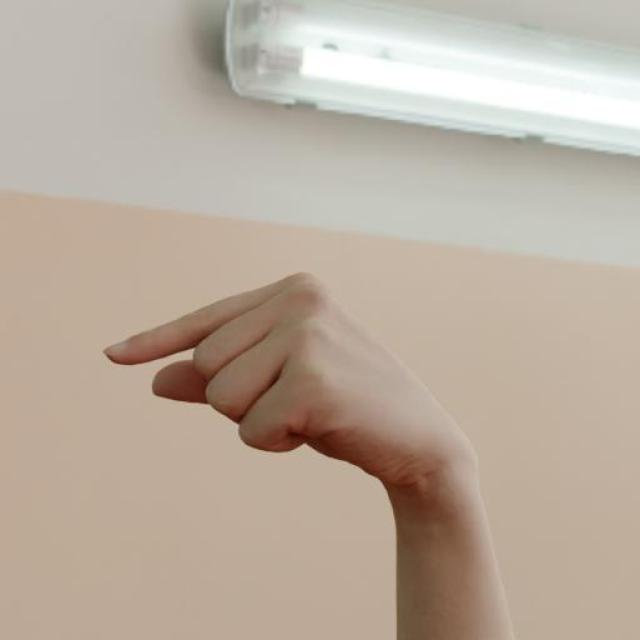G: (101, 268, 493, 490)
